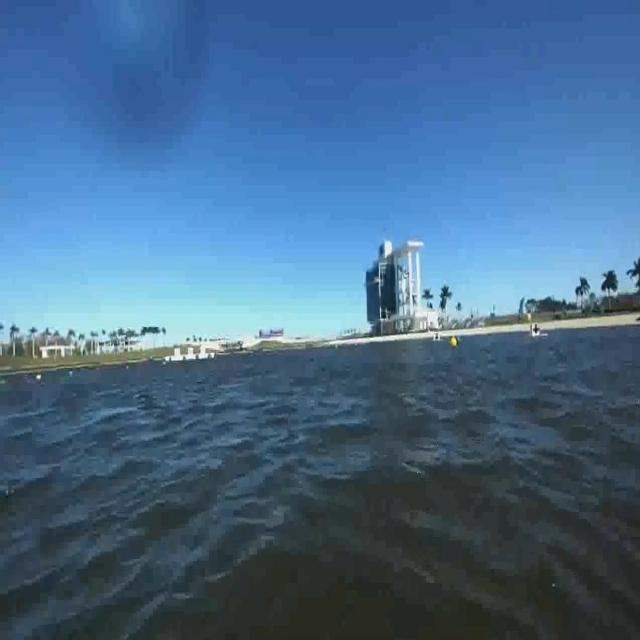yellow-buoy: (449, 336, 457, 351)
